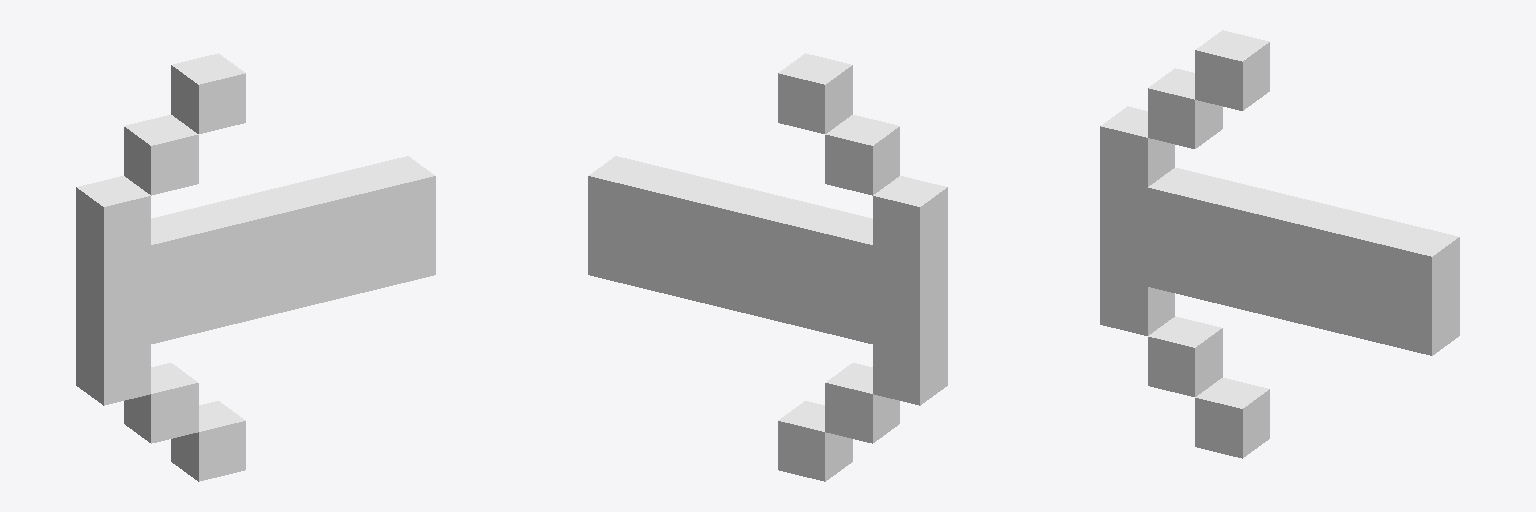
Rendered from Crossbow-Orange.vox.obj.
The picture shows the model from 3 angles: view 1: azimuth 30°, elevation 25°; view 2: azimuth 150°, elevation 25°; view 3: azimuth 330°, elevation 25°; orthographic projection.
Parts seen in each view (by area): view 1: object 1; view 2: object 1; view 3: object 1.
Part boxes in pixels (left/top/right/bottom): object 1: left=76, top=53, right=435, bottom=481; object 1: left=588, top=53, right=947, bottom=481; object 1: left=1100, top=30, right=1459, bottom=458.
Bounding box in the file's own units: 0.7 × 0.8 × 0.1.